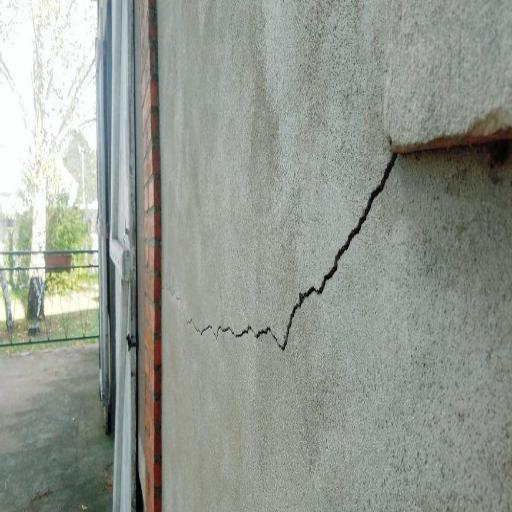spalling: (229, 153, 402, 357)
